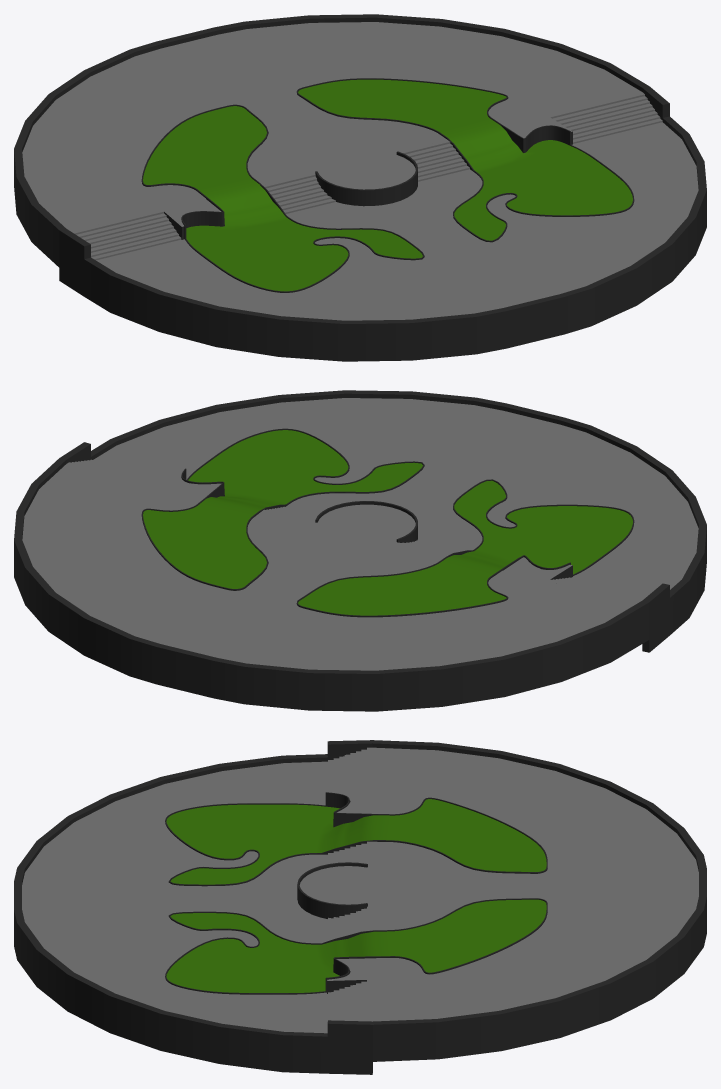
Rendered from LobbyTest.fbx.
The picture shows the model from 3 angles, top to bottom: view 1: azimuth 30°, elevation 25°; view 2: azimuth 150°, elevation 25°; view 3: azimuth 270°, elevation 25°; orthographic projection.
Visible parts, largest first — view 1: Cylinder.003, Cylinder.007, Cylinder.001, Cube.005, Cylinder.004, Cylinder.005; view 2: Cylinder.003, Cylinder.001, Cylinder.007, Cube.005, Cylinder.004, Cylinder.005; view 3: Cylinder.003, Cylinder.001, Cylinder.007, Cube.005, Cylinder.004, Cylinder.005.
Boxes of the visible parts, <box> form: Cylinder.003: <box>22,22,641,239</box>; Cylinder.007: <box>14,14,706,361</box>; Cylinder.001: <box>96,122,698,320</box>; Cube.005: <box>143,79,632,291</box>; Cylinder.004: <box>71,92,662,260</box>; Cylinder.005: <box>262,140,469,213</box>; Cylinder.003: <box>22,464,636,670</box>; Cylinder.001: <box>93,398,698,595</box>; Cylinder.007: <box>14,390,706,711</box>; Cube.005: <box>143,430,632,615</box>; Cylinder.004: <box>66,459,647,603</box>; Cylinder.005: <box>261,506,464,556</box>; Cylinder.003: <box>299,747,698,1021</box>; Cylinder.001: <box>22,761,327,1033</box>; Cylinder.007: <box>14,740,706,1074</box>; Cube.005: <box>166,799,546,992</box>; Cylinder.004: <box>328,747,372,1021</box>; Cylinder.005: <box>328,841,372,940</box>.
Bounding box in the file's own units: 5571 × 456 × 5729.
